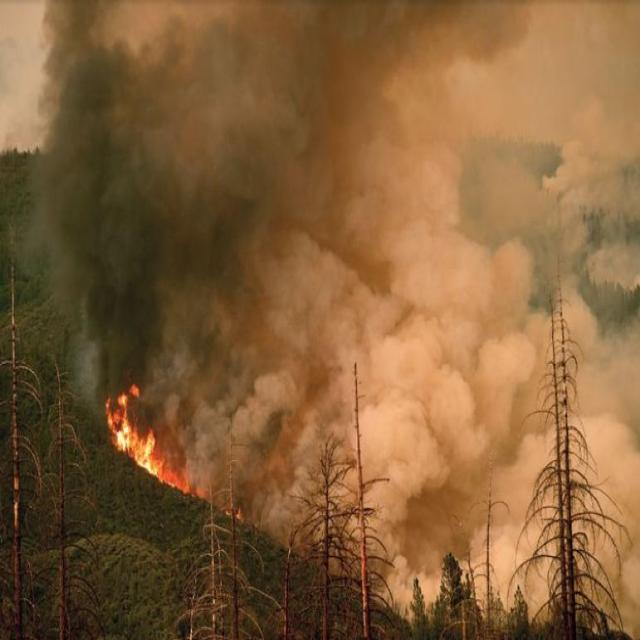smoke: (66, 51, 563, 368), (192, 368, 538, 518)
